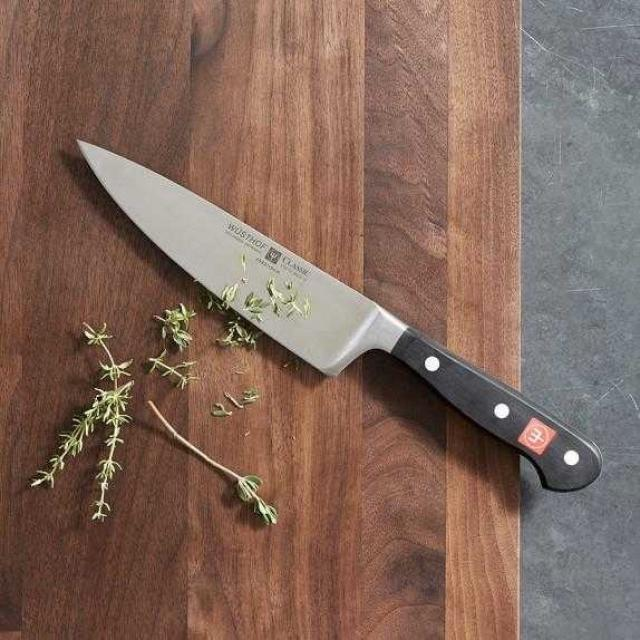Knife: (71, 130, 608, 500)
